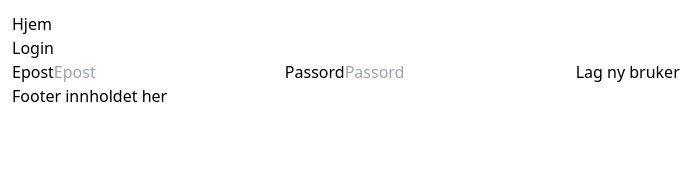
Test case: Login Page › When submitting the form › should show error when api fails
The image size is (698, 172).
Type "test@test.no" into the field labelled "Epost".
click(169, 72); type("test@test.no")  # box [54,60,285,84]
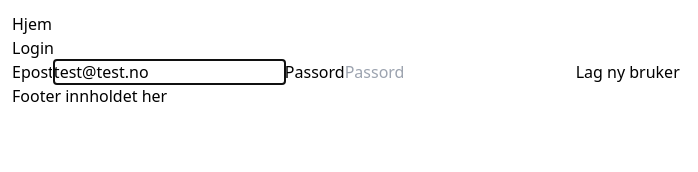
Type "123456" into the password field labelled "Passord".
click(460, 72); type("123456")  # box [345,60,576,84]
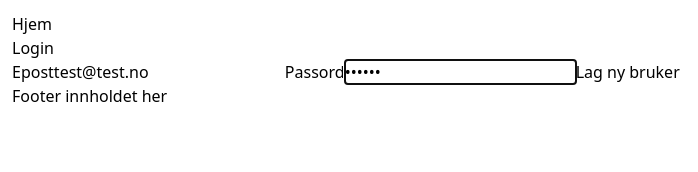
Click the button.
click(628, 72)  # box [576,60,680,84]
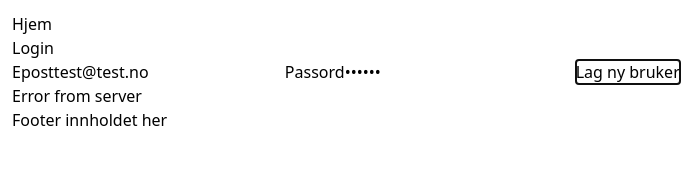
Expected: the text with test id "error" reads "Error from server", [12,85,142,107]
